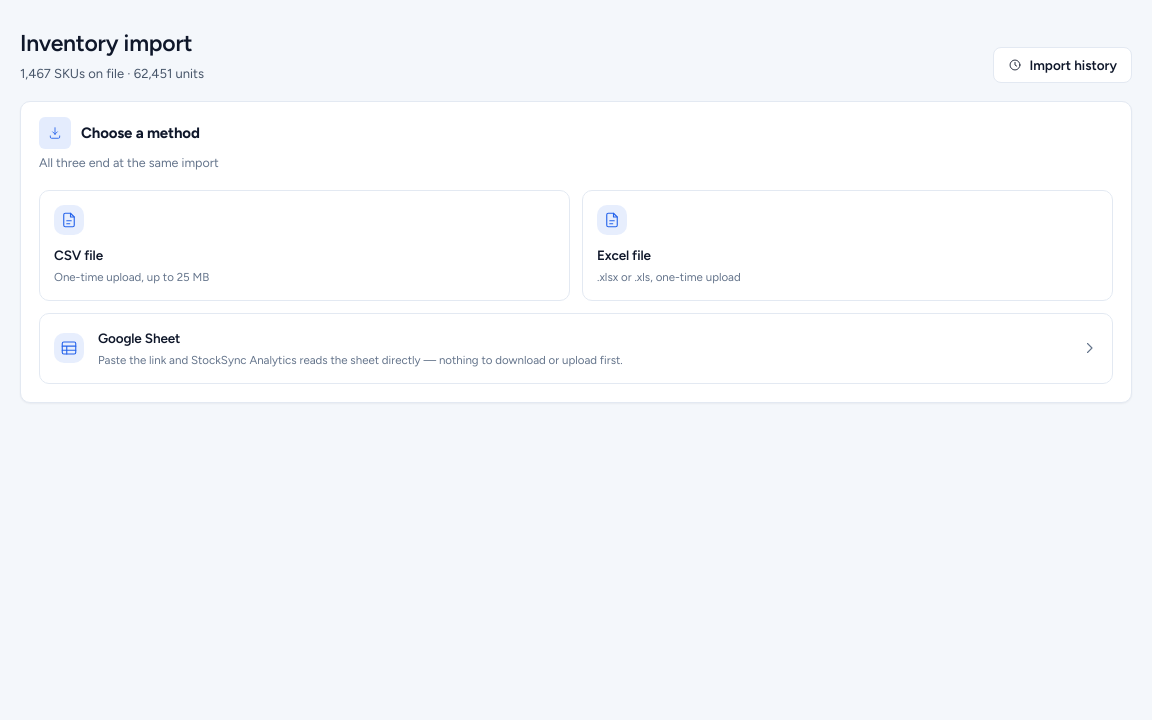
Test: choosing a method › Google Sheet asks for a SKU and nothing else
The image size is (1152, 720).
Expected: the heading "Choose a method" is shown, top-left (81, 122), bottom-right (200, 144)
Click the button "Google Sheet".
click(139, 338)  # box top-left (39, 313), bottom-right (1113, 384)
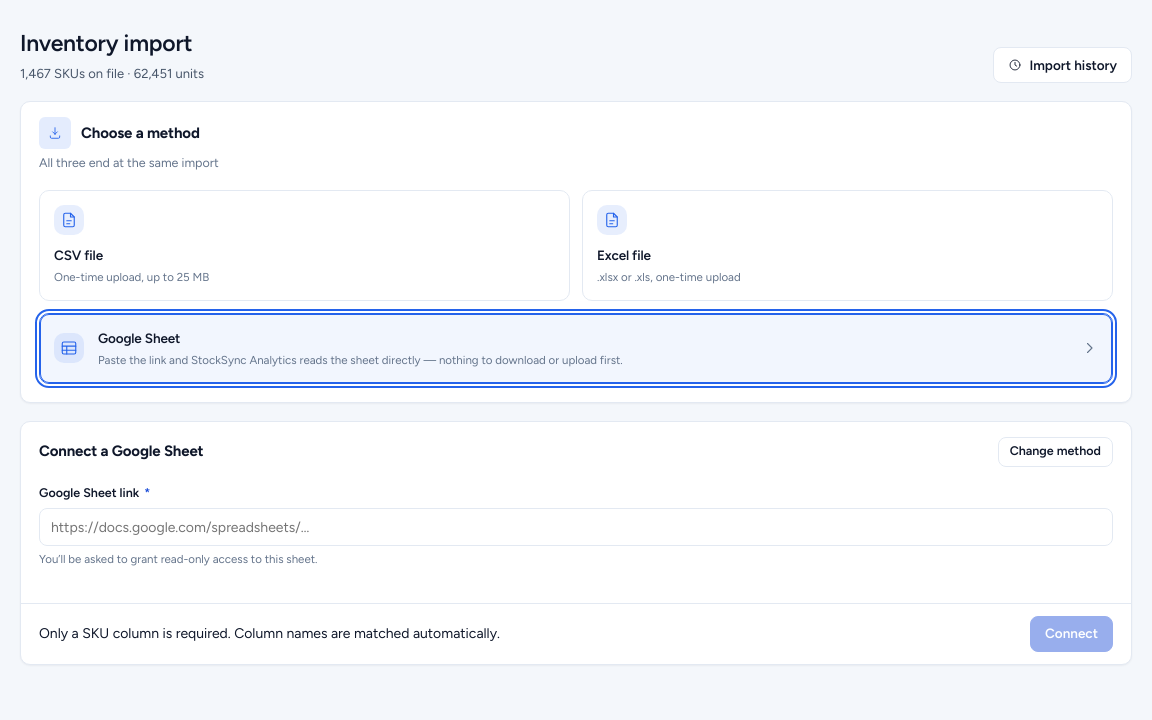
Now the text "Only a SKU column is required" is shown, box top-left (39, 625), bottom-right (500, 642)
